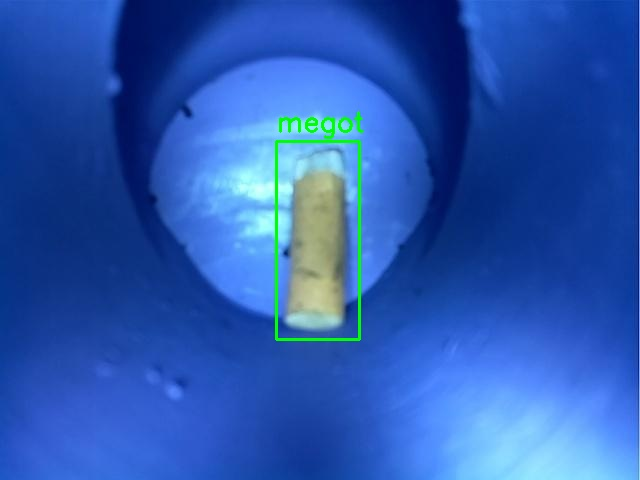megot: (276, 141, 359, 339)
